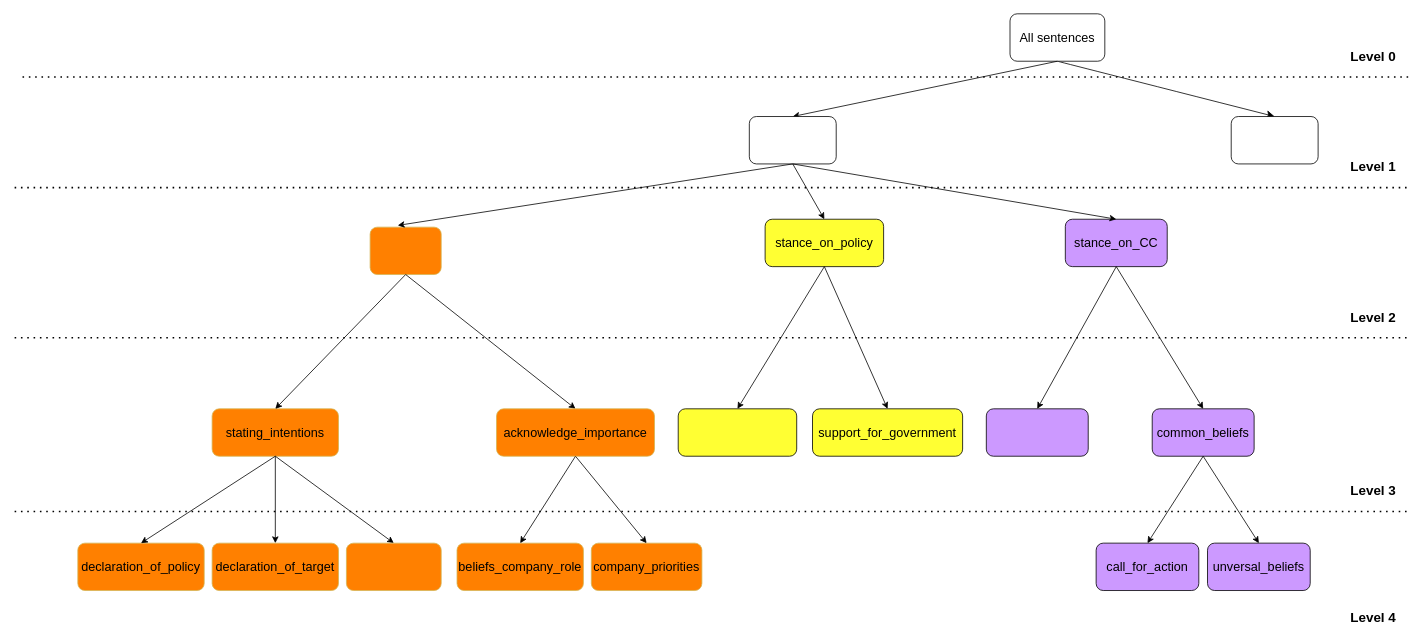
Image size: 1428x644. Some labels were removed from this diagram. The centre of each missing label's shape, as x and y in pixels:
"actions" goes at (405,250).
"comapny_beliefs" goes at (1037,432).
"not_relevant" goes at (1274,140).
"relevant" goes at (792,140).
"stating_goal" goes at (393,566).
"support_for_policy" goes at (737,432).
